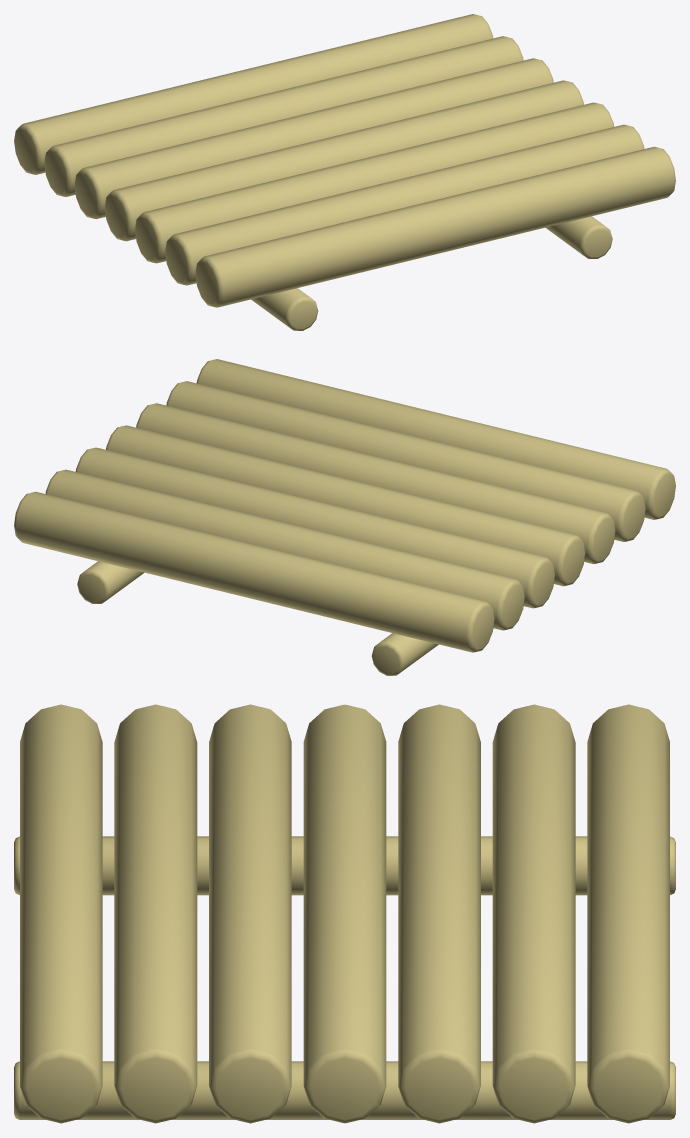
File: Bamboo Raft.fbx
3 views of the same model, one above another, from view 1: azimuth 30°, elevation 25°; view 2: azimuth 150°, elevation 25°; view 3: azimuth 270°, elevation 25° (orthographic). The views are drawn at different scales.
Visible parts, largest first — view 1: Pole_0, Pole_3, Pole_5, Pole_6, Pole_4, Pole_1, Pole_2, Beam_1, Beam_0; view 2: Pole_6, Pole_3, Pole_0, Pole_1, Pole_2, Pole_5, Pole_4, Beam_1, Beam_0; view 3: Pole_1, Pole_5, Pole_3, Pole_0, Pole_6, Pole_2, Pole_4, Beam_1, Beam_0.
Part boxes in pixels (x1=…): Pole_0: x1=195, y1=146, x2=675, y2=307; Pole_3: x1=104, y1=80, x2=583, y2=241; Pole_5: x1=44, y1=36, x2=523, y2=196; Pole_6: x1=14, y1=14, x2=493, y2=174; Pole_4: x1=74, y1=58, x2=553, y2=219; Pole_1: x1=165, y1=124, x2=644, y2=285; Pole_2: x1=135, y1=102, x2=614, y2=263; Beam_1: x1=545, y1=216, x2=612, y2=258; Beam_0: x1=251, y1=288, x2=318, y2=330; Pole_6: x1=14, y1=491, x2=494, y2=652; Pole_3: x1=106, y1=425, x2=585, y2=586; Pole_0: x1=196, y1=359, x2=675, y2=519; Pole_1: x1=166, y1=381, x2=645, y2=541; Pole_2: x1=136, y1=403, x2=615, y2=564; Pole_5: x1=45, y1=469, x2=524, y2=630; Pole_4: x1=75, y1=447, x2=554, y2=608; Beam_1: x1=77, y1=561, x2=144, y2=603; Beam_0: x1=371, y1=633, x2=438, y2=675; Pole_1: x1=114, y1=704, x2=197, y2=1123; Pole_5: x1=492, y1=704, x2=575, y2=1123; Pole_3: x1=303, y1=704, x2=386, y2=1123; Pole_0: x1=20, y1=704, x2=102, y2=1123; Pole_6: x1=587, y1=704, x2=669, y2=1123; Pole_2: x1=209, y1=704, x2=291, y2=1123; Pole_4: x1=398, y1=704, x2=480, y2=1123; Beam_1: x1=14, y1=1061, x2=675, y2=1119; Beam_0: x1=14, y1=836, x2=675, y2=895.
Bounding box in the file's own units: 140 × 24 × 112.
